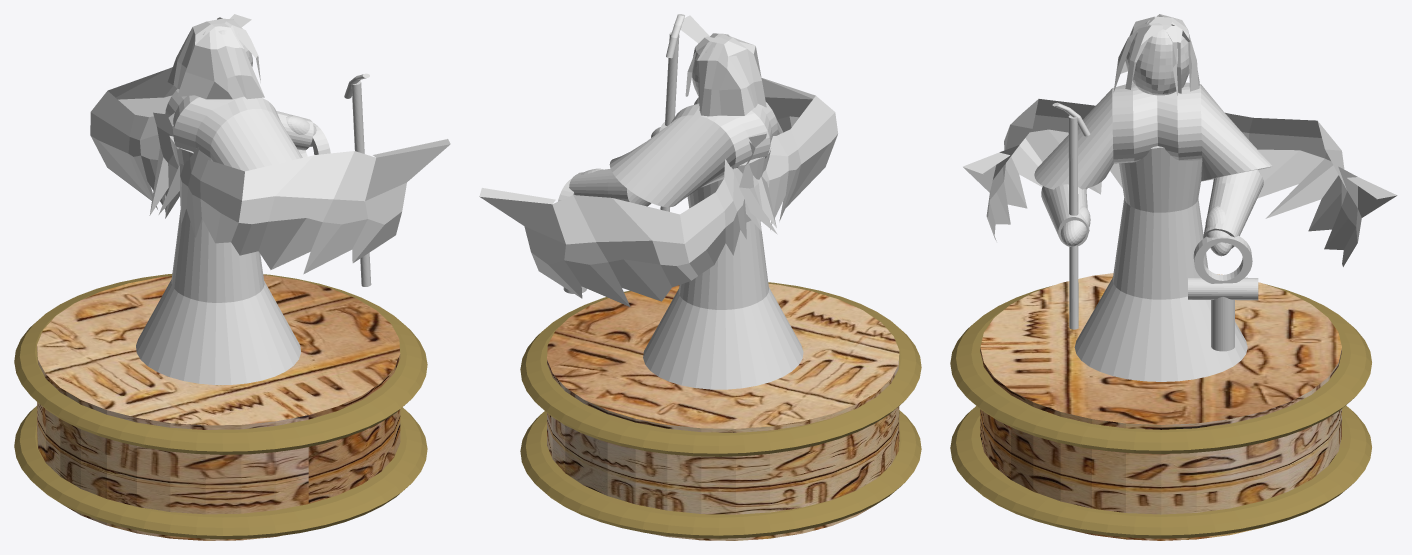
The model's file is Isis22.fbx.
The picture shows the model from 3 angles, left to right: view 1: azimuth 30°, elevation 25°; view 2: azimuth 150°, elevation 25°; view 3: azimuth 270°, elevation 25°; orthographic projection. The views are drawn at different scales.
Parts seen in each view (by area): view 1: Cylinder, Grid.002, Cone.001, Torus.001, Torus, Cylinder.001, Grid.001, Grid, Cylinder.004, Cylinder.002; view 2: Cylinder, Grid.001, Cone.001, Torus.001, Torus, Cylinder.001, Grid.002, Grid, Cylinder.002, Cylinder.004; view 3: Cylinder, Cone.001, Torus.001, Torus, Cylinder.001, Grid.001, Grid.002, Cylinder.002, Grid, Sphere, Cylinder.004, Cylinder.003 (+3 smaller).
Part boxes in pixels (x1,y1,x2,y2): Cylinder: [37, 275, 400, 540]; Grid.002: [149, 112, 450, 274]; Cone.001: [136, 136, 301, 384]; Torus.001: [14, 274, 427, 454]; Torus: [14, 406, 427, 539]; Cylinder.001: [165, 89, 302, 171]; Grid.001: [90, 14, 251, 214]; Grid: [167, 17, 264, 99]; Cylinder.004: [344, 73, 371, 286]; Cylinder.002: [276, 111, 316, 150]; Cylinder: [547, 283, 899, 540]; Grid.001: [479, 133, 776, 306]; Cone.001: [643, 147, 803, 389]; Torus.001: [520, 282, 921, 456]; Torus: [520, 410, 921, 538]; Cylinder.001: [609, 97, 782, 207]; Grid.002: [673, 15, 838, 234]; Grid: [685, 33, 766, 116]; Cylinder.002: [569, 168, 651, 206]; Cylinder.004: [660, 14, 684, 211]; Cylinder: [980, 273, 1341, 540]; Cone.001: [1074, 146, 1247, 381]; Torus.001: [950, 284, 1371, 453]; Torus: [950, 405, 1371, 538]; Cylinder.001: [1034, 82, 1272, 189]; Grid.001: [1213, 112, 1397, 266]; Grid.002: [963, 99, 1122, 241]; Cylinder.002: [1203, 169, 1263, 256]; Grid: [1113, 14, 1199, 95]; Sphere: [1125, 20, 1189, 95]; Cylinder.004: [1052, 102, 1090, 329]; Cylinder.003: [1041, 184, 1090, 246].
Bounding box in the file's own units: 157 × 186 × 170.
